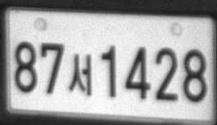1: (97, 44, 122, 96)
2: (154, 46, 178, 101)
4: (124, 45, 151, 99)
7: (40, 41, 64, 94)
8: (181, 48, 207, 102), (13, 41, 37, 92)
서: (68, 53, 92, 96)
